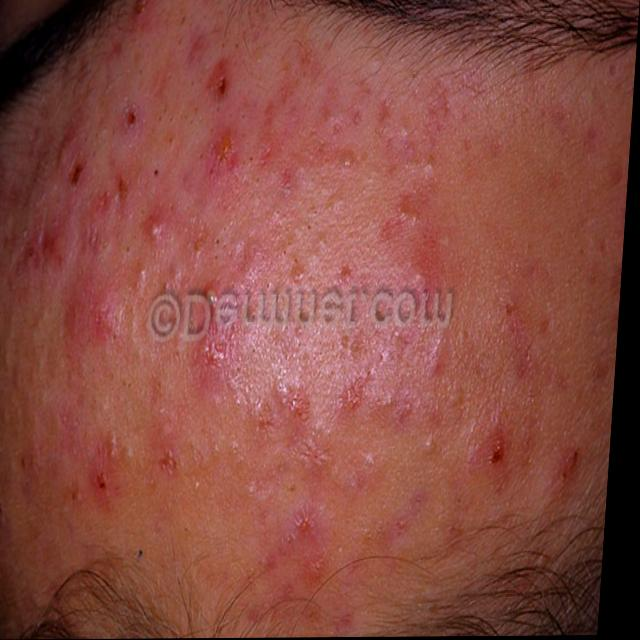blackheads: (88, 458, 121, 511), (210, 58, 233, 108), (496, 432, 515, 474), (421, 429, 446, 460), (121, 100, 142, 133), (147, 214, 167, 247), (66, 159, 86, 190), (425, 158, 438, 176), (343, 159, 358, 168)
